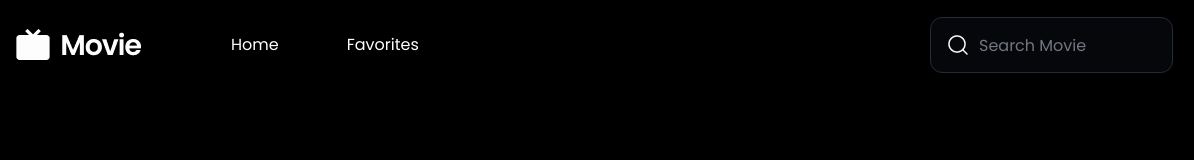
it: Navbar search validation › shows a validation message for a single-character query
Type "a" into the field with placeholder "Search Movie" at (1052, 45), box [930,17,1173,73]
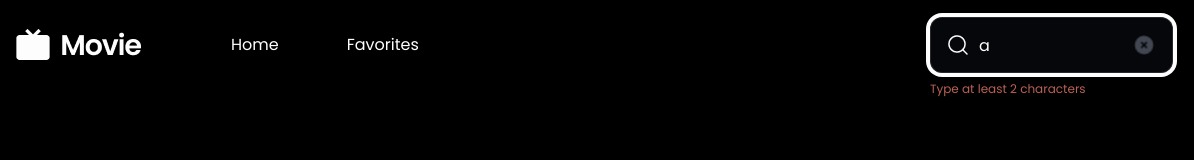
Check: the text "Type at least 2 characters" is shown, box [930,77,1086,101]
